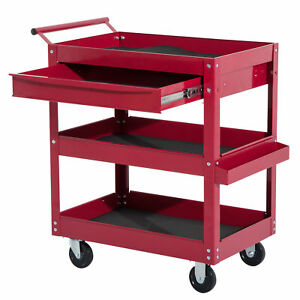Carts: (9, 17, 291, 294)
